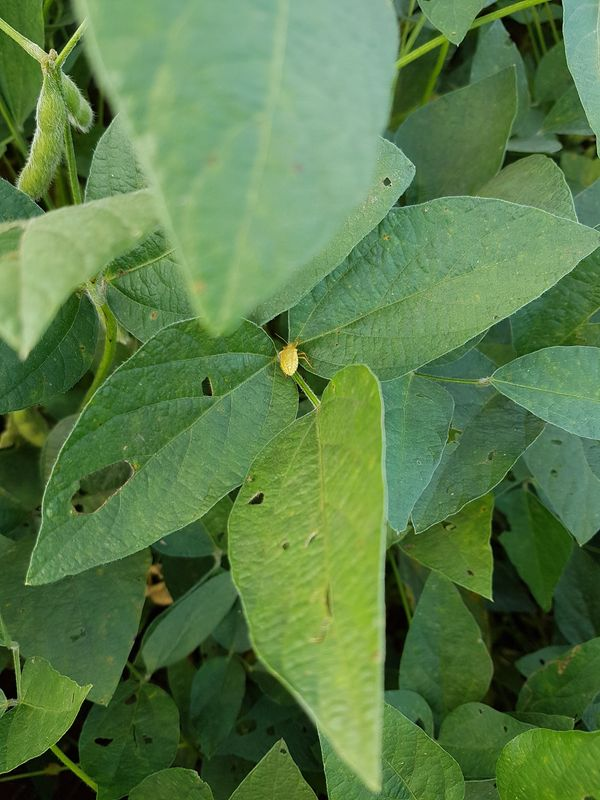Euschistus_heros_ninfa: (263, 329, 319, 381)
